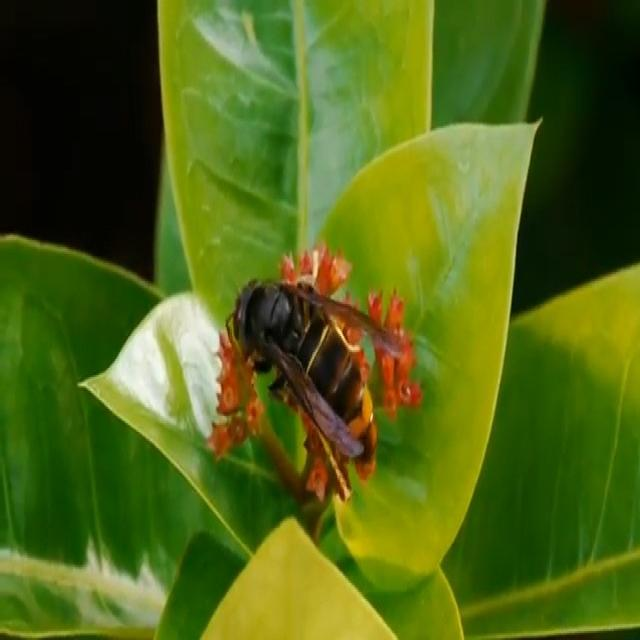Hornets: (222, 275, 412, 495)
